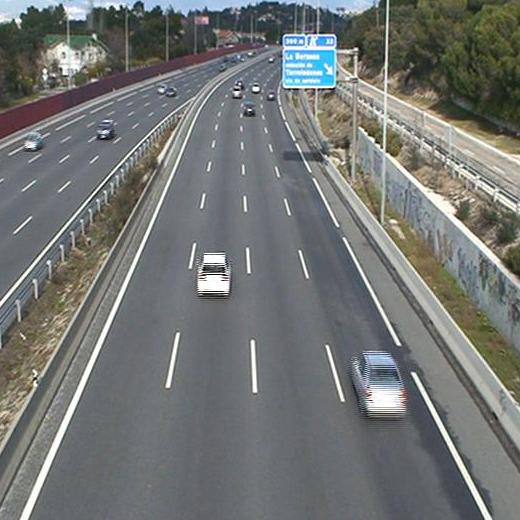car: (352, 350, 405, 419), (195, 251, 233, 296), (242, 100, 258, 116), (231, 84, 244, 100)
